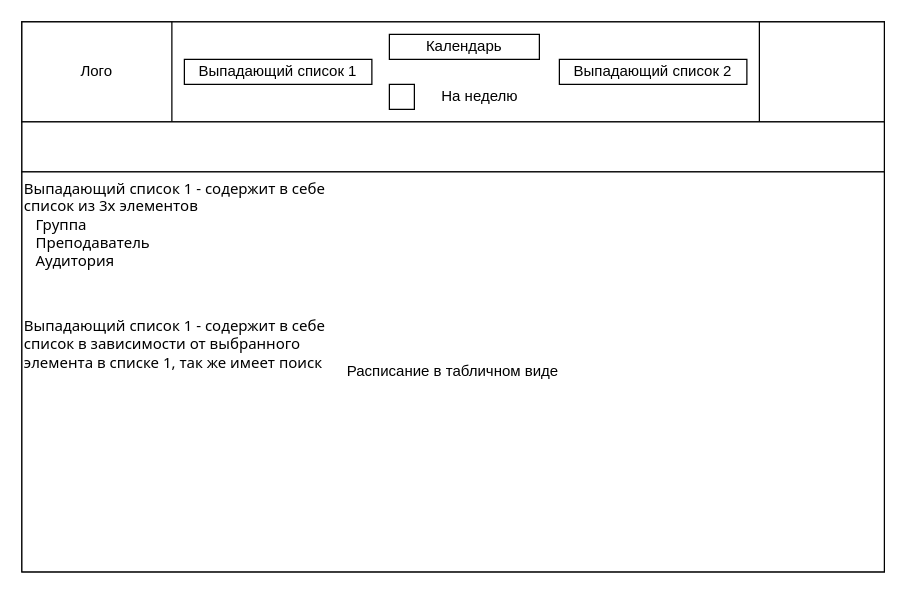
This 906x594 diagram has some shape labels left out. The box of each missing label's shape, as (x1, y1, x2, y2) in pixels:
Информационный блок: (21, 121, 884, 172)
Кнопка: (758, 21, 884, 122)
